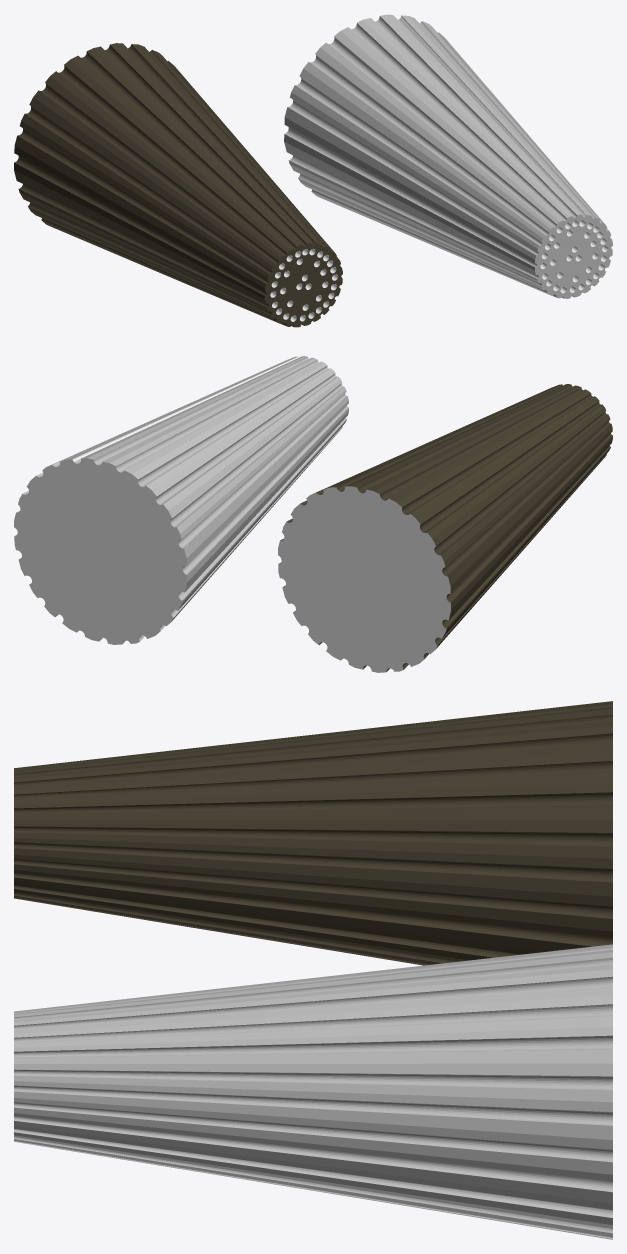
3 renders of one model, top to bottom at view 1: azimuth 30°, elevation 25°; view 2: azimuth 150°, elevation 25°; view 3: azimuth 270°, elevation 25°, orthographic. The views are drawn at different scales.
Parts seen in each view (by area): view 1: salt and pepper shakers; view 2: salt and pepper shakers; view 3: salt and pepper shakers.
Boxes of the visible parts, x1,y1,x2,y2 form: salt and pepper shakers: (14, 14, 612, 327); salt and pepper shakers: (14, 356, 612, 672); salt and pepper shakers: (14, 701, 612, 1239).
Bounding box in the file's own units: 255 × 121 × 205.
